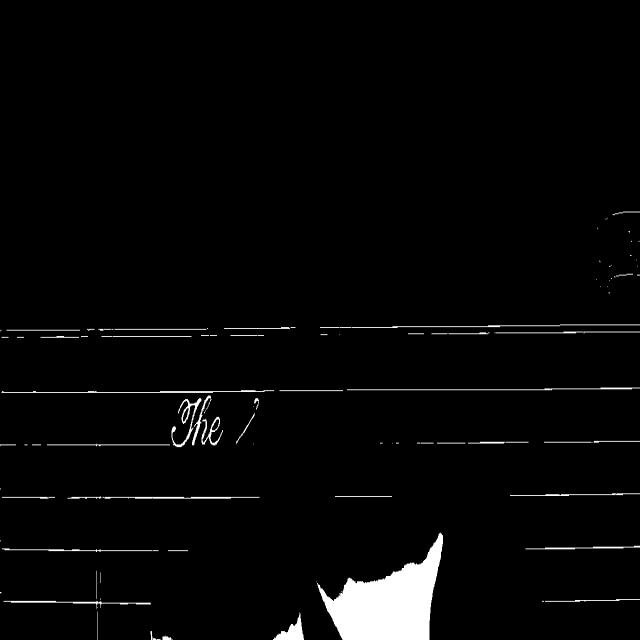hand: (320, 533, 442, 639), (274, 616, 303, 639)
noise: (319, 323, 640, 336), (0, 388, 359, 396), (0, 327, 218, 339), (0, 541, 188, 554), (3, 593, 151, 608), (412, 438, 640, 445), (346, 386, 640, 391), (66, 494, 260, 500), (526, 543, 640, 551), (222, 326, 296, 337), (510, 491, 640, 496), (333, 492, 393, 499), (0, 494, 58, 500), (96, 571, 101, 639), (542, 598, 640, 601), (44, 443, 174, 445), (0, 443, 18, 446)
not-noise: (170, 395, 224, 447), (236, 397, 259, 444)
page-marker: (596, 212, 640, 294)
